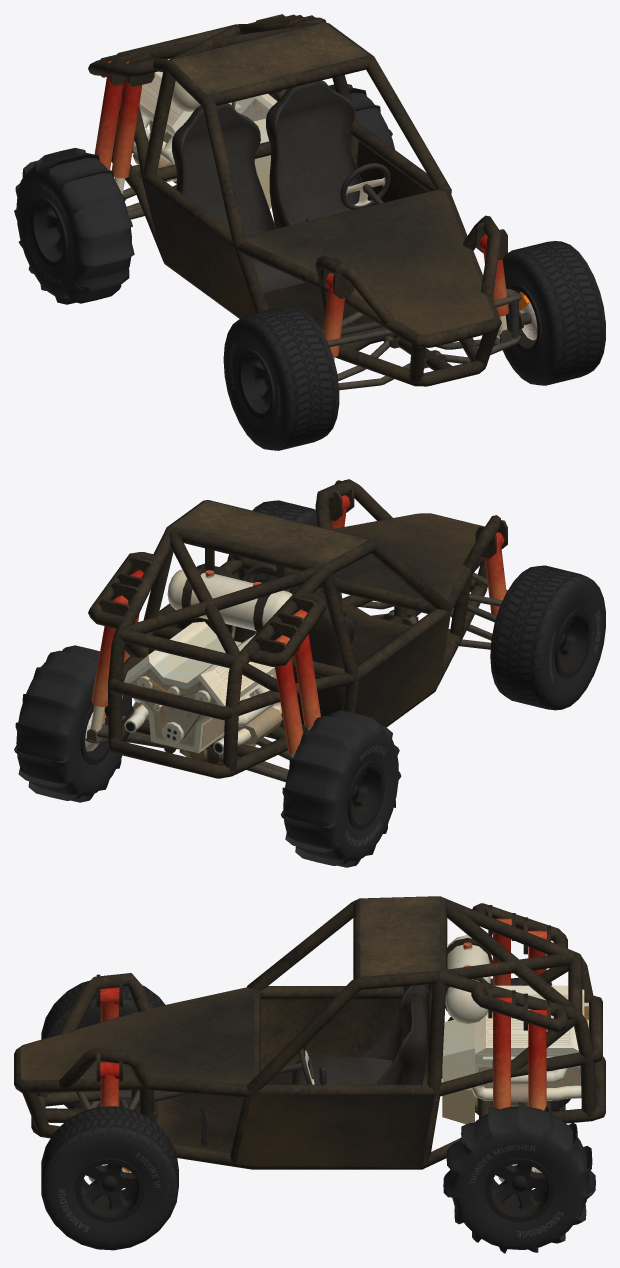
File: Sandrail.fbx
3 renders of one model, top to bottom at view 1: azimuth 30°, elevation 25°; view 2: azimuth 150°, elevation 25°; view 3: azimuth 270°, elevation 25°, orthographic.
Visible parts, largest first — view 1: chassis, seats, rearRight, frontRight, frontLeft, shockUpper_rR_000, shockUpper_rR_001, rearLeft, steeringWheel, shockUpper_fR, axleJoint_fR_000, axleJoint_fL_000 (+3 smaller); view 2: chassis, rearRight, frontRight, rearLeft, seats, shockUpper_rR_001, shockUpper_rR_000, frontLeft, shockUpper_rL_001, shockUpper_fR, axleJoint_rR_000; view 3: chassis, rearLeft, frontLeft, seats, frontRight, shockUpper_rL_000, shockUpper_rL_001, shockUpper_fL, shockUpper_fR, shockUpper_rR_000.
Boxes of the visible parts, x1=… form: chassis: x1=88, y1=14, x2=507, y2=386; seats: x1=172, y1=80, x2=368, y2=292; rearRight: x1=14, y1=148, x2=134, y2=304; frontRight: x1=223, y1=306, x2=339, y2=450; frontLeft: x1=502, y1=241, x2=605, y2=385; shockUpper_rR_000: x1=111, y1=61, x2=142, y2=178; shockUpper_rR_001: x1=94, y1=60, x2=123, y2=170; rearLeft: x1=329, y1=84, x2=394, y2=149; steeringWheel: x1=340, y1=163, x2=390, y2=209; shockUpper_fR: x1=323, y1=273, x2=344, y2=357; axleJoint_fR_000: x1=337, y1=336, x2=410, y2=390; axleJoint_fL_000: x1=435, y1=329, x2=521, y2=363; chassis: x1=88, y1=479, x2=507, y2=778; rearRight: x1=280, y1=710, x2=401, y2=867; frontRight: x1=490, y1=565, x2=605, y2=710; rearLeft: x1=14, y1=645, x2=132, y2=802; seats: x1=174, y1=563, x2=354, y2=724; shockUpper_rR_001: x1=275, y1=635, x2=303, y2=753; shockUpper_rR_000: x1=293, y1=609, x2=320, y2=728; frontLeft: x1=227, y1=500, x2=321, y2=590; shockUpper_rL_001: x1=91, y1=595, x2=128, y2=707; shockUpper_fR: x1=484, y1=532, x2=506, y2=615; axleJoint_rR_000: x1=219, y1=737, x2=292, y2=782; chassis: x1=14, y1=896, x2=605, y2=1169; rearLeft: x1=443, y1=1102, x2=595, y2=1253; frontLeft: x1=41, y1=1106, x2=178, y2=1250; seats: x1=292, y1=984, x2=427, y2=1084; frontRight: x1=41, y1=980, x2=165, y2=1108; shockUpper_rL_000: x1=492, y1=997, x2=511, y2=1109; shockUpper_rL_001: x1=528, y1=1010, x2=546, y2=1110; shockUpper_fL: x1=100, y1=1062, x2=119, y2=1106; shockUpper_fR: x1=100, y1=987, x2=119, y2=1021; shockUpper_rR_000: x1=492, y1=918, x2=511, y2=985.
Bounding box in the file's own units: 2.01 × 1.5 × 3.25.
